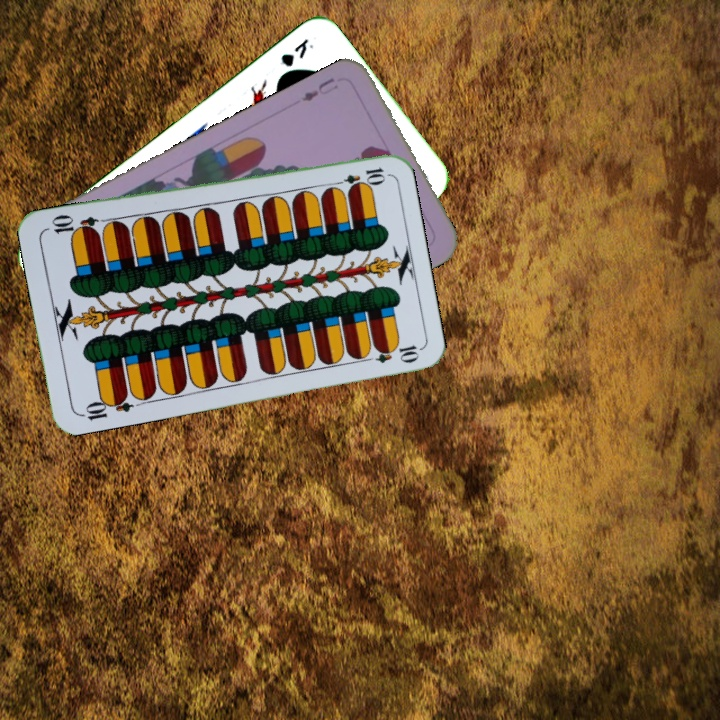E10: (76, 390, 135, 423), (329, 163, 388, 190)
EU: (297, 73, 340, 104)
GK: (276, 34, 316, 70)
